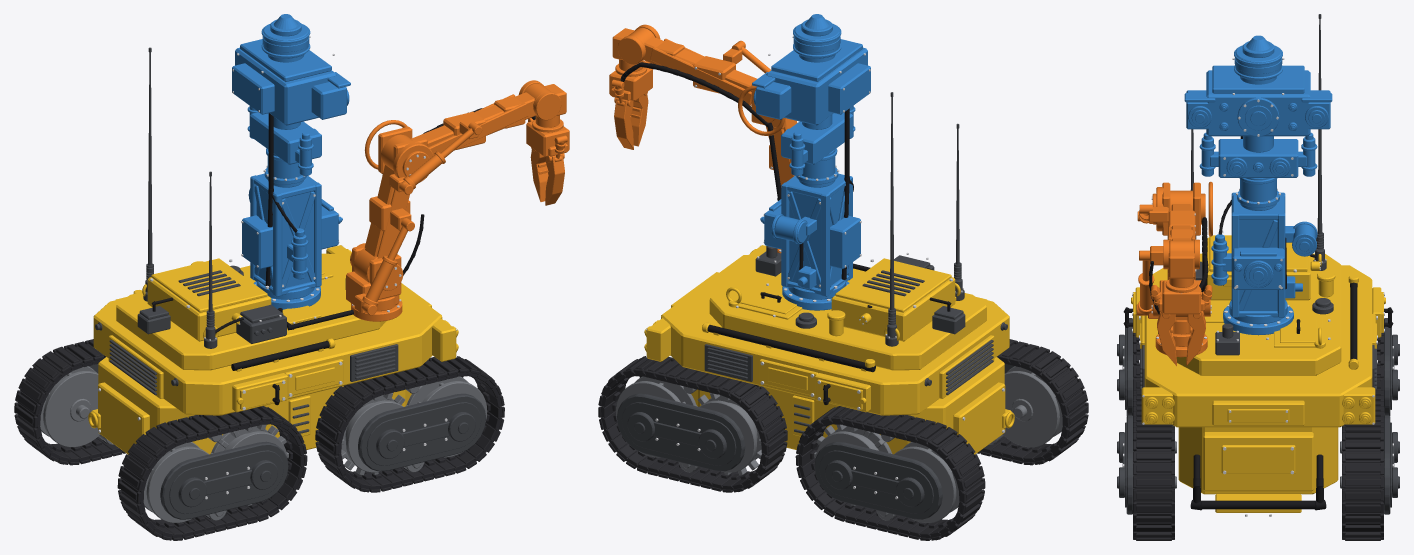
Rendered from robo-color.fbx.
3 views of the same model, side by side, from view 1: azimuth 30°, elevation 25°; view 2: azimuth 150°, elevation 25°; view 3: azimuth 270°, elevation 25° (orthographic).
Parts seen in each view (by area): view 1: Chassi_Casco, Torre_Sensores, Braco_Robotico, Esteira_DD_Protecao, Esteira_TD_Protecao, Antenas_Equipamentos, Esteira_TE_Rodas, Grades_Ventilacao, Esteira_DD_Rodas, Esteira_TD_Rodas, Cabos_Mangueiras_Alcas, Parafusos_Rebites; view 2: Chassi_Casco, Torre_Sensores, Braco_Robotico, Esteira_DE_Protecao, Esteira_TE_Protecao, Antenas_Equipamentos, Cabos_Mangueiras_Alcas, Esteira_TD_Rodas, Grades_Ventilacao, Esteira_DE_Rodas, Esteira_TE_Rodas, Parafusos_Rebites; view 3: Chassi_Casco, Torre_Sensores, Braco_Robotico, Cabos_Mangueiras_Alcas, Antenas_Equipamentos, Esteira_DD_Protecao, Esteira_DE_Protecao, Esteira_TD_Protecao, Esteira_TE_Protecao, Parafusos_Rebites, Esteira_DD_elo11, Esteira_DE_elo11 (+17 smaller).
Boxes of the visible parts, <box> form: Chassi_Casco: <box>88,245,458,454</box>; Torre_Sensores: <box>232,14,350,309</box>; Braco_Robotico: <box>346,80,569,321</box>; Esteira_DD_Protecao: <box>358,393,485,471</box>; Esteira_TD_Protecao: <box>160,441,288,519</box>; Antenas_Equipamentos: <box>95,47,345,386</box>; Esteira_TE_Rodas: <box>40,366,114,447</box>; Grades_Ventilacao: <box>109,270,398,433</box>; Esteira_DD_Rodas: <box>341,376,487,475</box>; Esteira_TD_Rodas: <box>143,424,288,522</box>; Cabos_Mangueiras_Alcas: <box>151,108,535,405</box>; Parafusos_Rebites: <box>98,36,457,499</box>; Chassi_Casco: <box>644,245,1014,454</box>; Torre_Sensores: <box>752,14,870,310</box>; Braco_Robotico: <box>609,24,797,253</box>; Esteira_DE_Protecao: <box>617,393,745,471</box>; Esteira_TE_Protecao: <box>814,441,942,519</box>; Antenas_Equipamentos: <box>755,92,1007,386</box>; Cabos_Mangueiras_Alcas: <box>620,62,951,404</box>; Esteira_TD_Rodas: <box>989,366,1062,447</box>; Grades_Ventilacao: <box>704,270,993,433</box>; Esteira_DE_Rodas: <box>616,376,761,475</box>; Esteira_TE_Rodas: <box>814,424,959,522</box>; Parafusos_Rebites: <box>643,36,1004,499</box>; Chassi_Casco: <box>1131,235,1385,512</box>; Torre_Sensores: <box>1184,35,1332,335</box>; Braco_Robotico: <box>1136,181,1212,365</box>; Cabos_Mangueiras_Alcas: <box>1123,136,1393,510</box>; Antenas_Equipamentos: <box>1190,14,1333,355</box>; Esteira_DD_Protecao: <box>1117,415,1132,514</box>; Esteira_DE_Protecao: <box>1384,415,1399,514</box>; Esteira_TD_Protecao: <box>1117,318,1133,415</box>; Esteira_TE_Protecao: <box>1383,318,1399,415</box>; Parafusos_Rebites: <box>1123,58,1393,516</box>; Esteira_DD_elo11: <box>1133,476,1174,489</box>; Esteira_DE_elo11: <box>1342,476,1383,489</box>.
Size of the model in its own units: 99.94 by 93.64 by 54.01.
